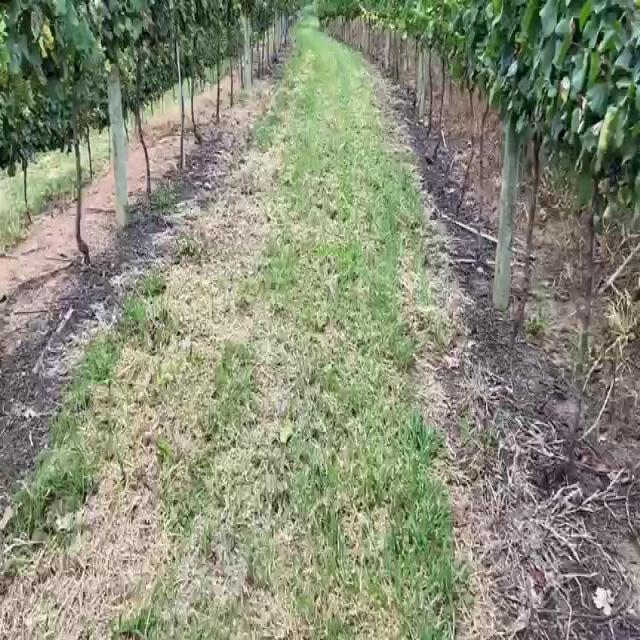tree trunk: (493, 113, 518, 310), (493, 112, 518, 309), (108, 64, 127, 233)
